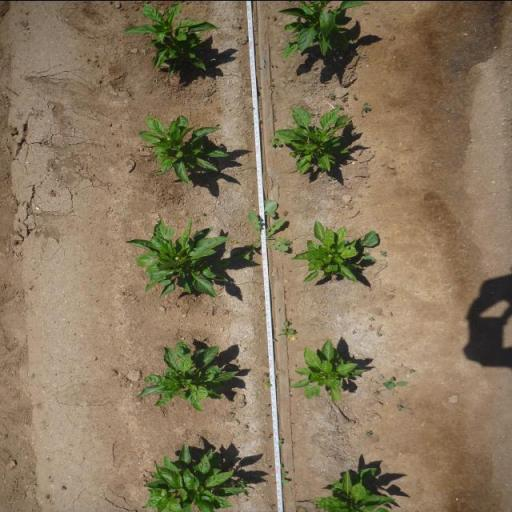plant: (124, 218, 234, 300), (120, 0, 221, 77), (135, 337, 240, 409), (134, 110, 232, 184), (139, 443, 241, 512), (276, 0, 370, 61), (278, 104, 355, 174), (288, 338, 369, 402), (290, 218, 358, 285), (310, 461, 396, 512)
weed: (233, 213, 293, 264), (380, 376, 410, 391), (262, 198, 278, 218), (280, 320, 296, 335), (268, 134, 280, 148), (281, 470, 289, 484), (362, 101, 372, 112), (265, 376, 271, 387), (365, 429, 373, 437), (282, 208, 289, 216), (379, 250, 388, 256), (328, 92, 335, 98), (397, 405, 404, 411), (341, 96, 349, 101), (374, 389, 380, 395), (271, 14, 276, 21), (263, 371, 269, 376), (351, 94, 358, 98), (200, 211, 206, 215), (376, 330, 380, 336), (368, 316, 374, 320), (277, 440, 283, 444)
